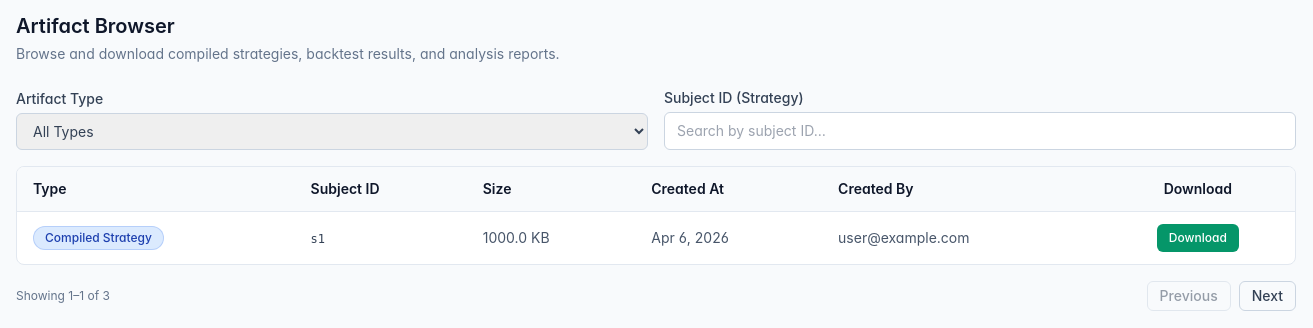
Test: ArtifactBrowser › paginates Next/Prev without full reload (re-queries with new offset)
The width and height of the screenshot is (1313, 328).
Expected: the row with test id "artifacts-row-01HART00000000000000P1" is shown, [17,212,1295,264]
Expected: the button with test id "artifacts-prev-button" is disabled, [1147,281,1231,311]
Click the button with test id "artifacts-next-button". click: click(1267, 296)
box: [1239,281,1296,311]
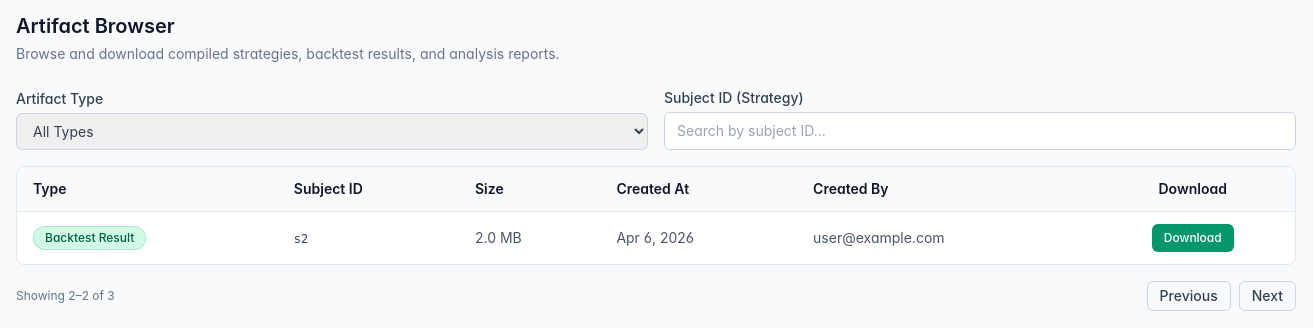
Result: the row with test id "artifacts-row-01HART00000000000000P2" is shown at [17,212,1295,264]
Result: the button with test id "artifacts-prev-button" is enabled
Click the button with test id "artifacts-prev-button". click: click(1189, 296)
box: [1147,281,1231,311]
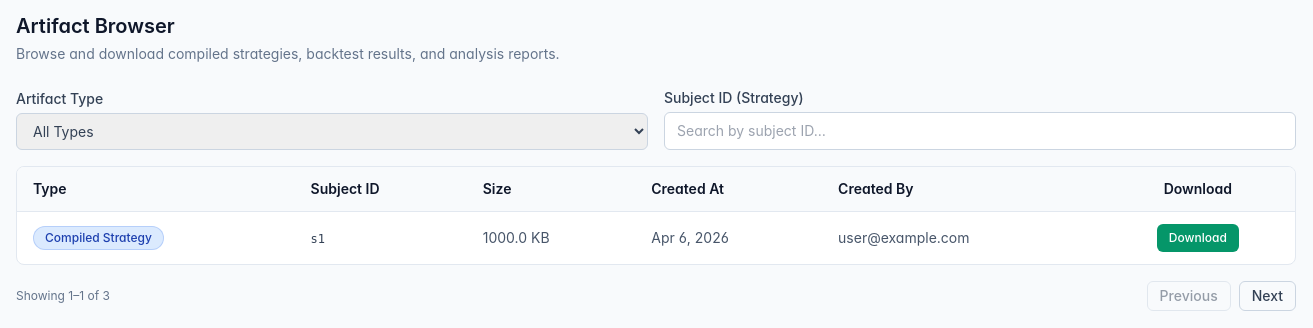
Result: the row with test id "artifacts-row-01HART00000000000000P1" is shown at [17,212,1295,264]
